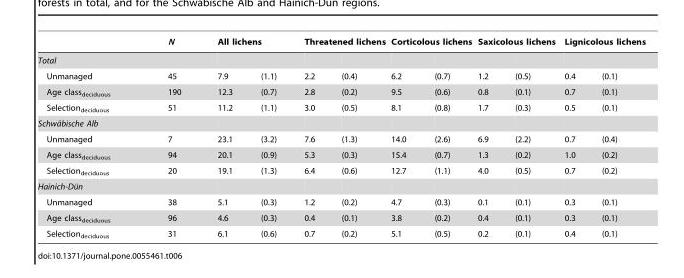table: (37, 37, 645, 238)
table column: (37, 37, 138, 238), (138, 37, 198, 238), (327, 37, 387, 238), (501, 37, 559, 238), (587, 37, 645, 238), (419, 37, 474, 238), (198, 37, 246, 238), (246, 37, 289, 238), (289, 37, 327, 238), (387, 37, 419, 238), (559, 37, 587, 238), (474, 37, 501, 238)
table column header: (37, 37, 645, 68)
table projected row header: (37, 115, 645, 131), (37, 178, 645, 194)
table row: (37, 50, 645, 68), (37, 83, 645, 100), (37, 146, 645, 163), (37, 209, 645, 226), (37, 115, 645, 131), (37, 178, 645, 194), (37, 68, 645, 83), (37, 100, 645, 115), (37, 131, 645, 146), (37, 163, 645, 178), (37, 194, 645, 209), (37, 37, 645, 50), (37, 226, 645, 238)
table spanning cell: (37, 37, 138, 68), (138, 37, 198, 68), (289, 37, 387, 50), (198, 37, 289, 50), (387, 37, 474, 50), (559, 37, 645, 50), (474, 37, 559, 50)
